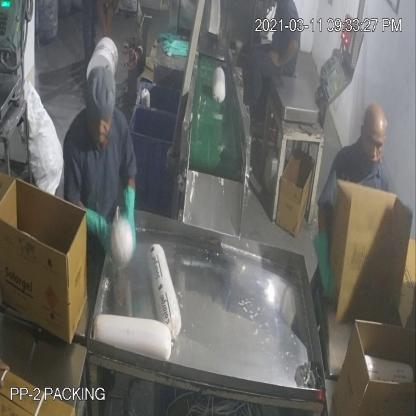glove: (310, 220, 340, 303)
no_glove: (267, 33, 300, 74), (104, 0, 117, 48)
